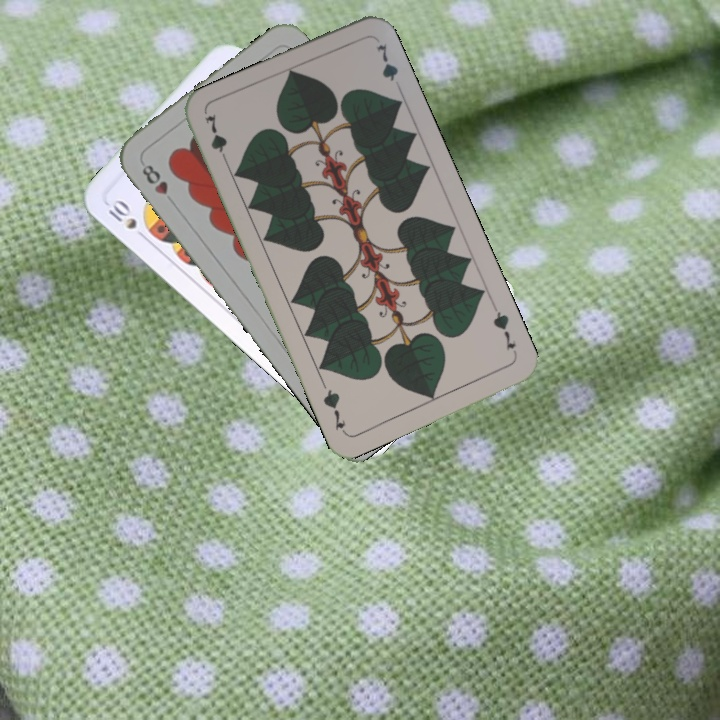G7: (201, 110, 232, 168), (489, 302, 520, 359)
H8: (137, 160, 178, 208)
S10: (104, 195, 151, 243)
